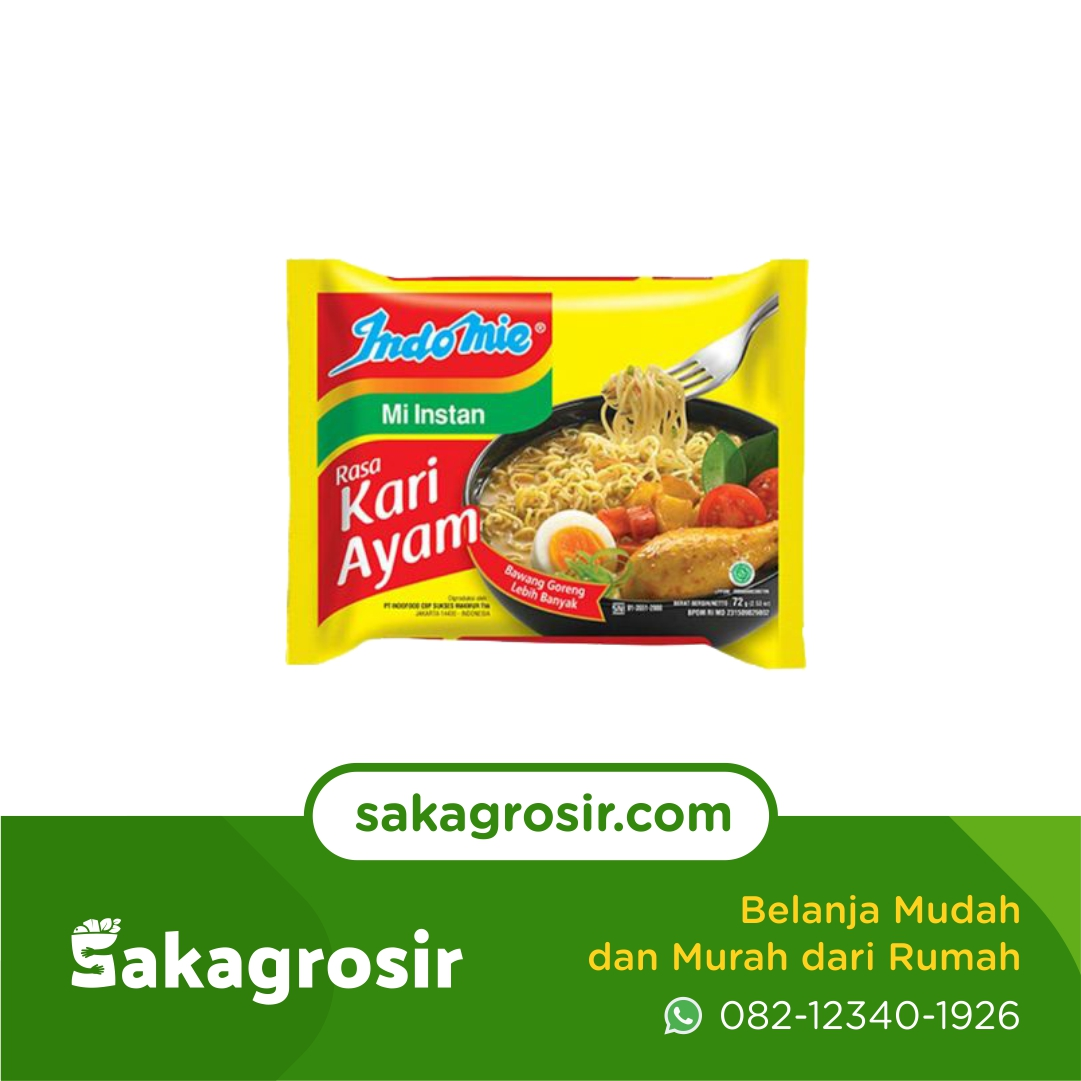indomie kari ayam: (244, 195, 826, 710)
